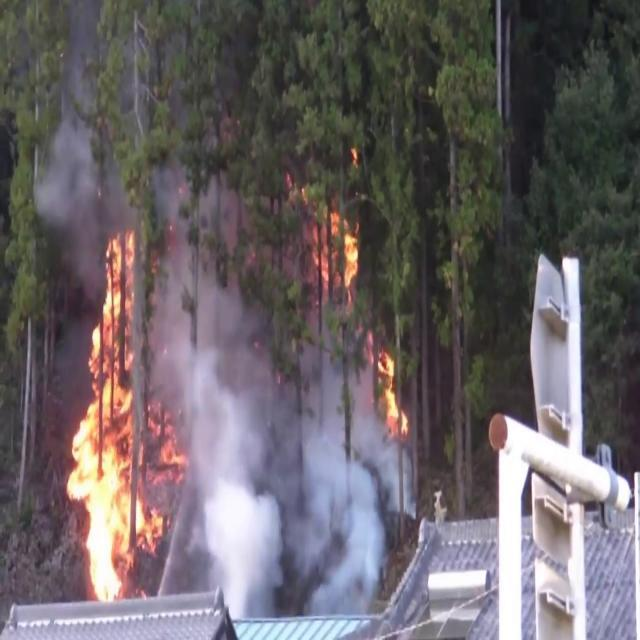Fire: (58, 218, 166, 600), (306, 188, 364, 302), (376, 336, 410, 444)
Smoke: (142, 271, 404, 631)
